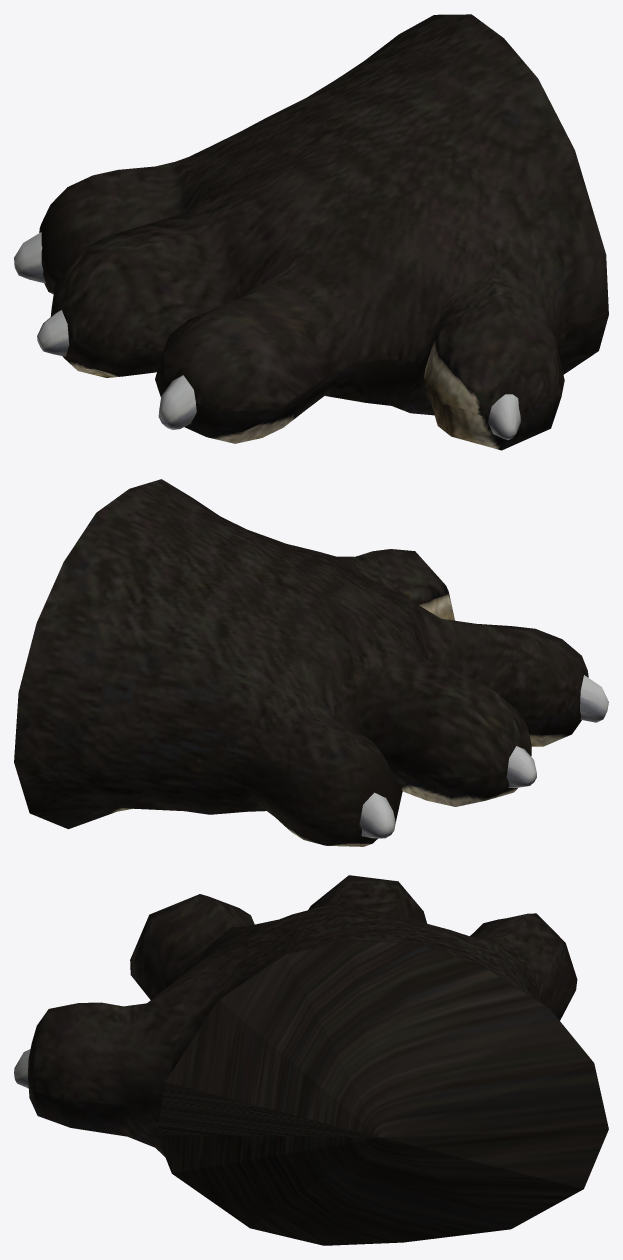
The model's file is ManoDer.obj.
3 views of the same model, one above another, from view 1: azimuth 30°, elevation 25°; view 2: azimuth 150°, elevation 25°; view 3: azimuth 270°, elevation 25° (orthographic). The views are drawn at different scales.
Visible parts, largest first — view 1: polySurface16; view 2: polySurface16; view 3: polySurface16.
Part boxes in pixels (x1,y1,x2,y2): polySurface16: (14,14,608,450); polySurface16: (14,479,608,846); polySurface16: (14,875,608,1245).
Size of the model in its own units: 0.4174 by 0.2405 by 0.417.
1 material, 1 textured.
